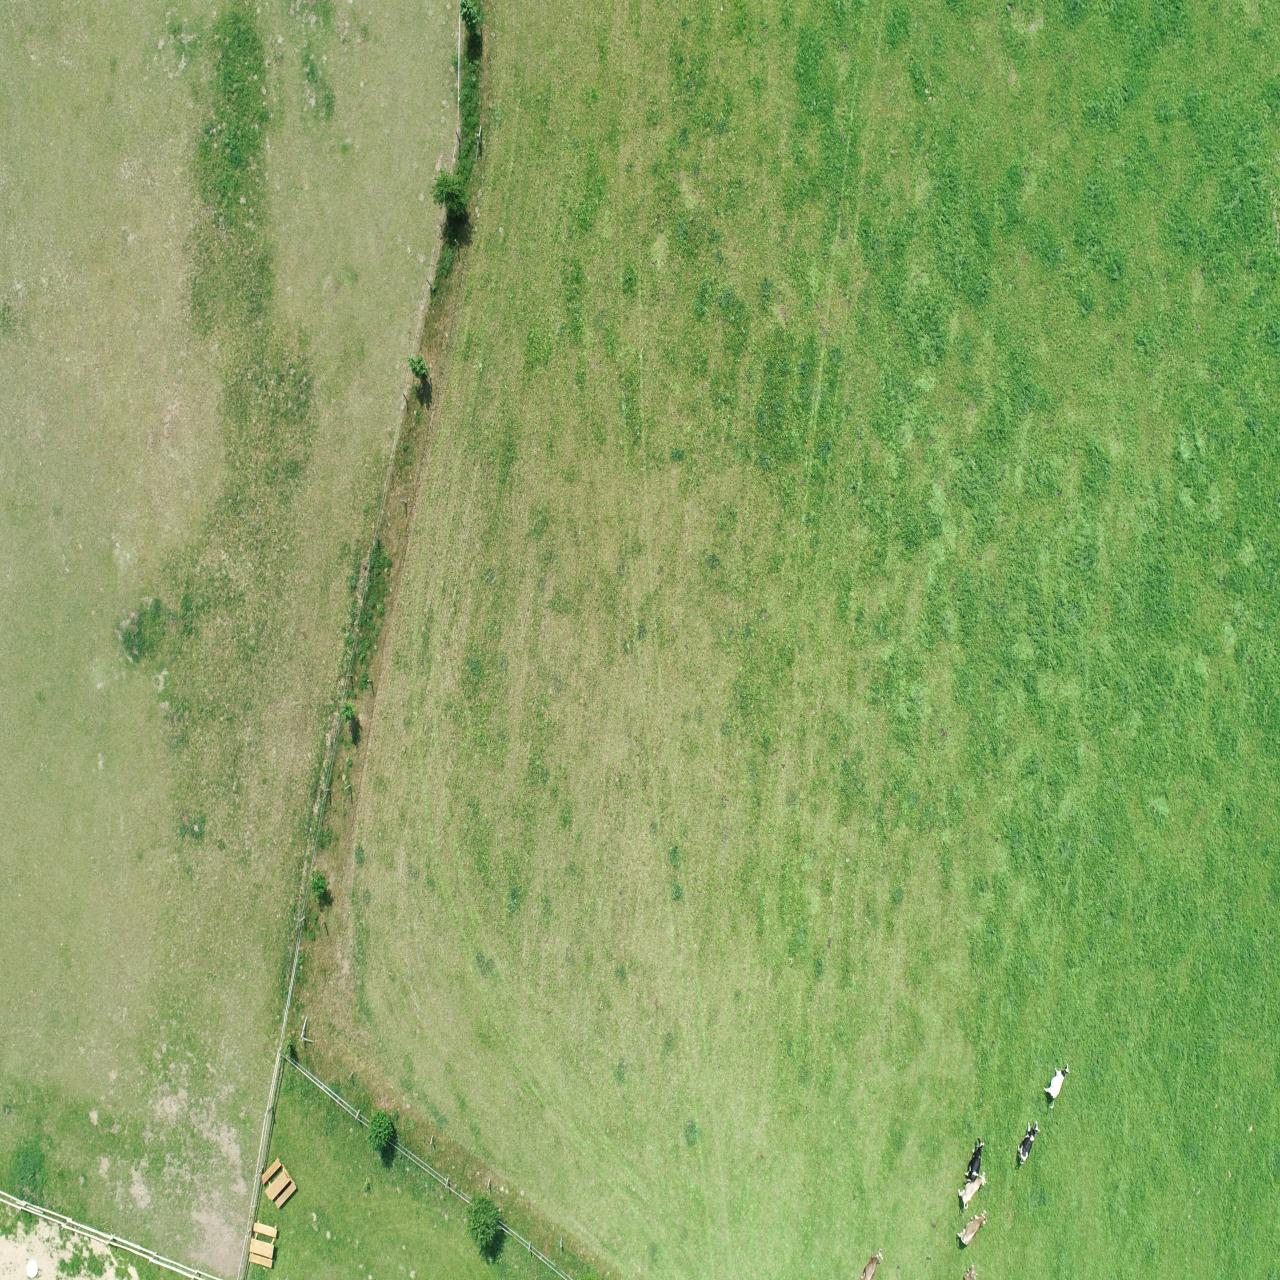cow: (953, 1169, 995, 1208), (1041, 1058, 1073, 1109), (953, 1210, 989, 1248), (1015, 1116, 1042, 1166), (961, 1135, 986, 1184), (858, 1246, 886, 1280), (959, 1261, 979, 1280)
